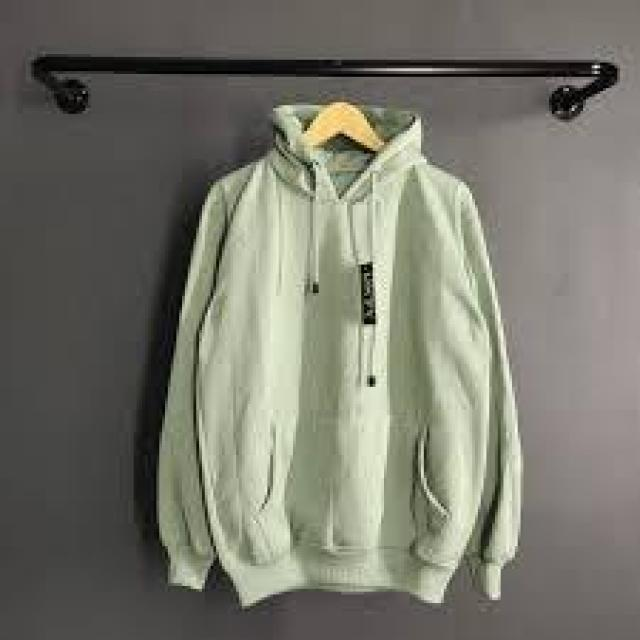sweater: (168, 101, 523, 596)
